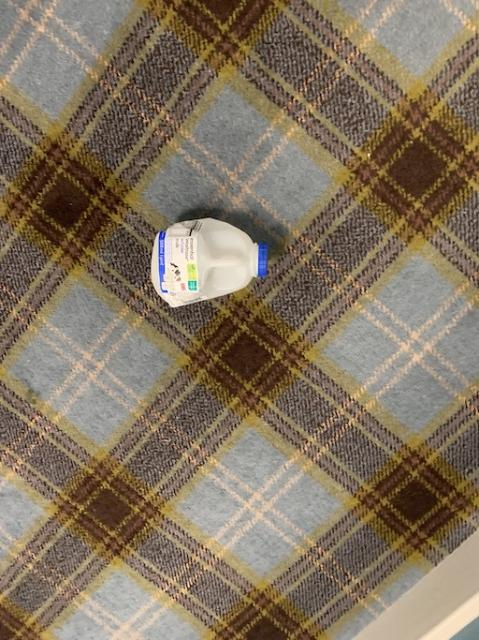plastic: (151, 217, 266, 305)
